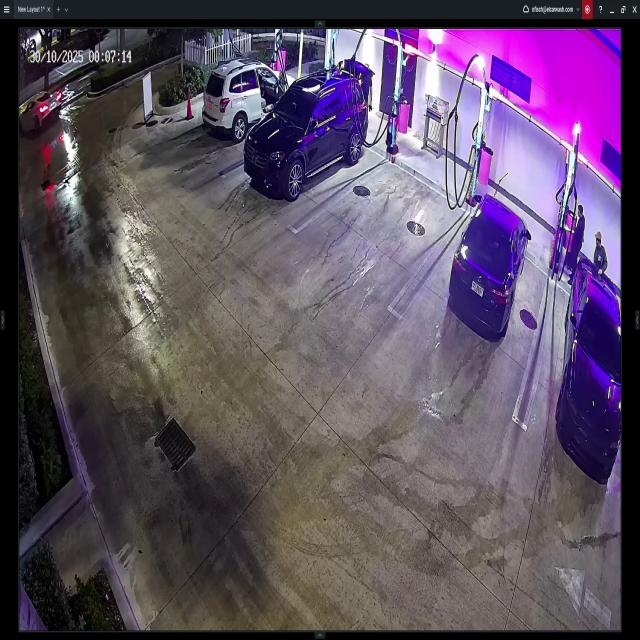Car: (244, 64, 372, 200), (558, 253, 624, 475), (448, 196, 532, 340), (202, 52, 297, 144), (19, 89, 64, 134)
